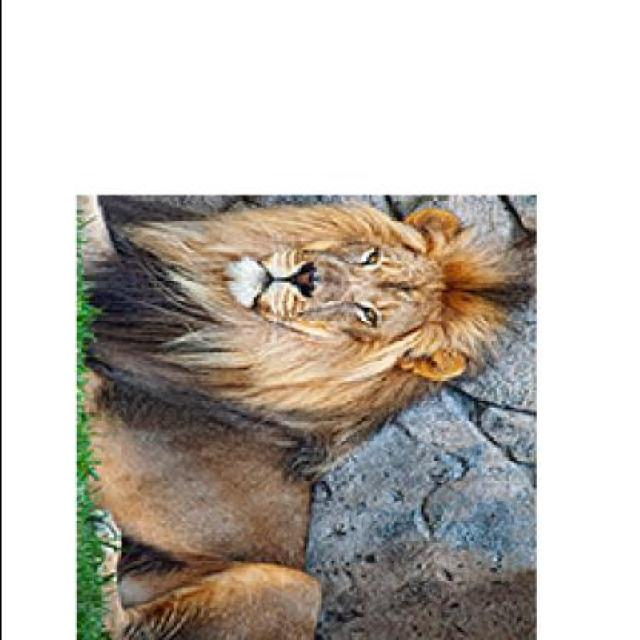Lion: (19, 186, 543, 639)
